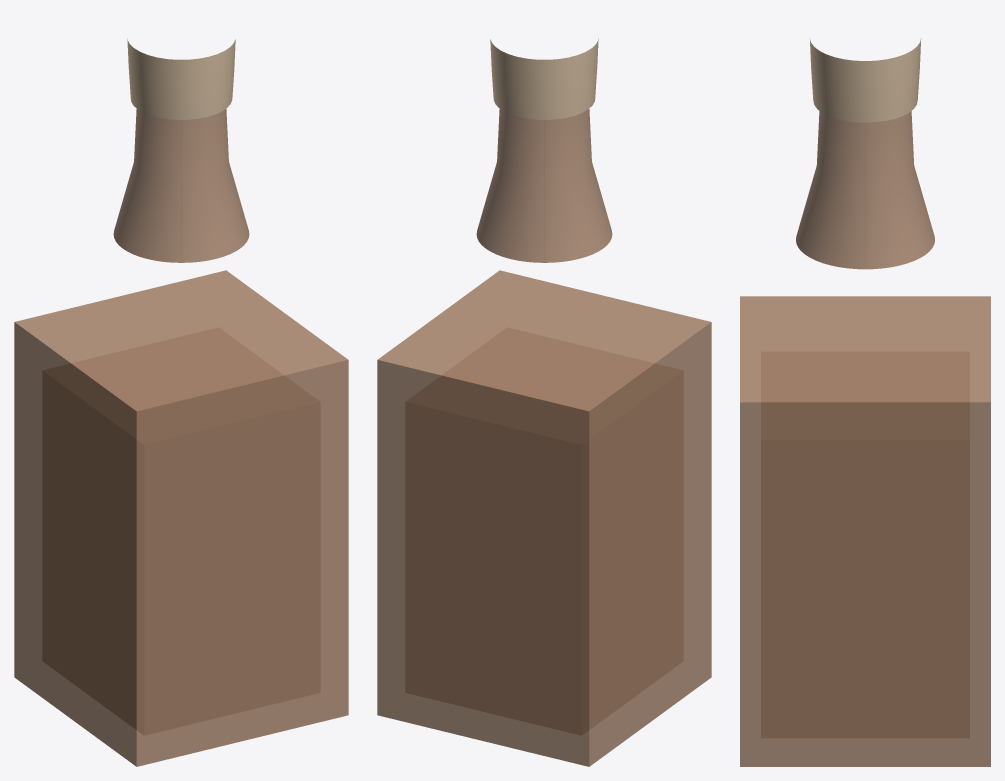
The model's file is woodford-reserve.glb.
3 renders of one model, left to right at view 1: azimuth 30°, elevation 25°; view 2: azimuth 150°, elevation 25°; view 3: azimuth 270°, elevation 25°, orthographic. The views are drawn at different scales.
Parts seen in each view (by area): view 1: body, neck, cap; view 2: body, neck, cap; view 3: body, neck, cap.
Part boxes in pixels (x1,y1,x2,y2): body: (14,270,348,766); neck: (113,109,249,262); cap: (127,38,235,119); body: (377,270,711,766); neck: (476,109,612,262); cap: (490,38,598,119); body: (740,296,990,766); neck: (796,111,934,269); cap: (809,38,921,122).
Size of the model in its own units: 0.36 by 1.07 by 0.36.
